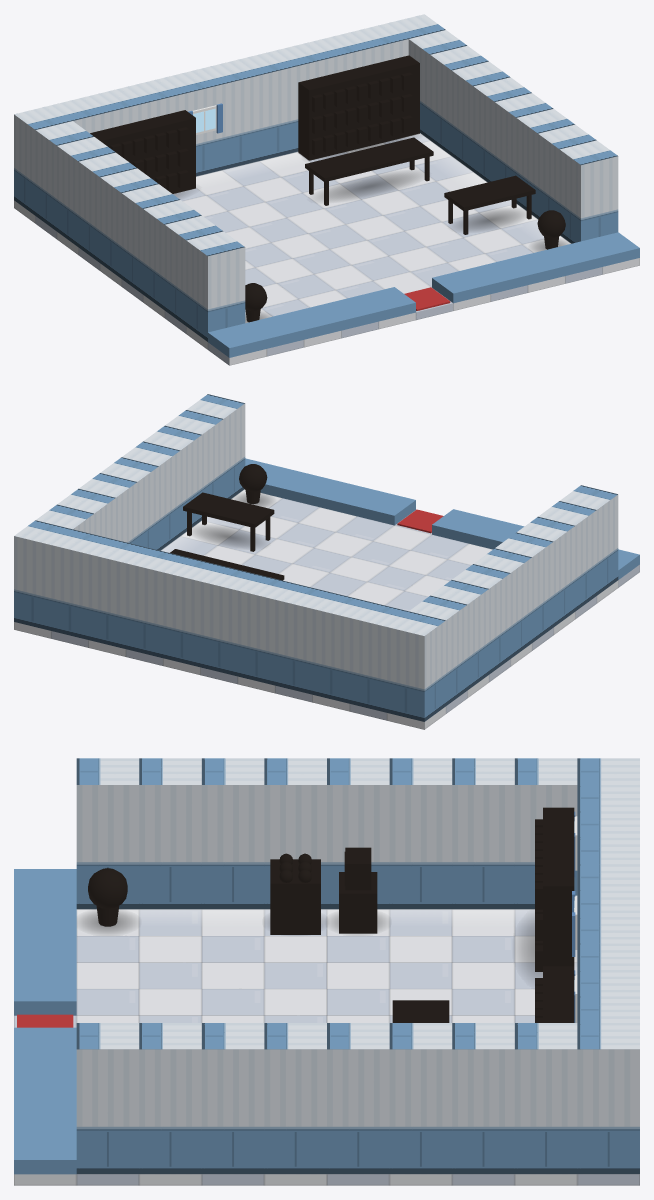
File: lab.glb
The picture shows the model from 3 angles, top to bottom: view 1: azimuth 30°, elevation 25°; view 2: azimuth 150°, elevation 25°; view 3: azimuth 270°, elevation 25°; orthographic projection. The views are drawn at different scales.
Parts seen in each view (by area): view 1: malha__semsombra (×41), malha__contorno (×6); view 2: malha__semsombra (×36), malha__contorno (×3); view 3: malha__semsombra (×45), malha__contorno (×7).
Part boxes in pixels (box(x1,y1,x2,y2)): malha__semsombra (×41): box(14, 14, 639, 365); malha__contorno (×6): box(90, 55, 565, 310); malha__semsombra (×36): box(14, 394, 639, 729); malha__contorno (×3): box(170, 464, 284, 580); malha__semsombra (×45): box(14, 758, 639, 1185); malha__contorno (×7): box(88, 807, 574, 1022).
Size of the model in its own units: 11 by 2.4 by 10.
Materials: 34 (11 with a texture image).
